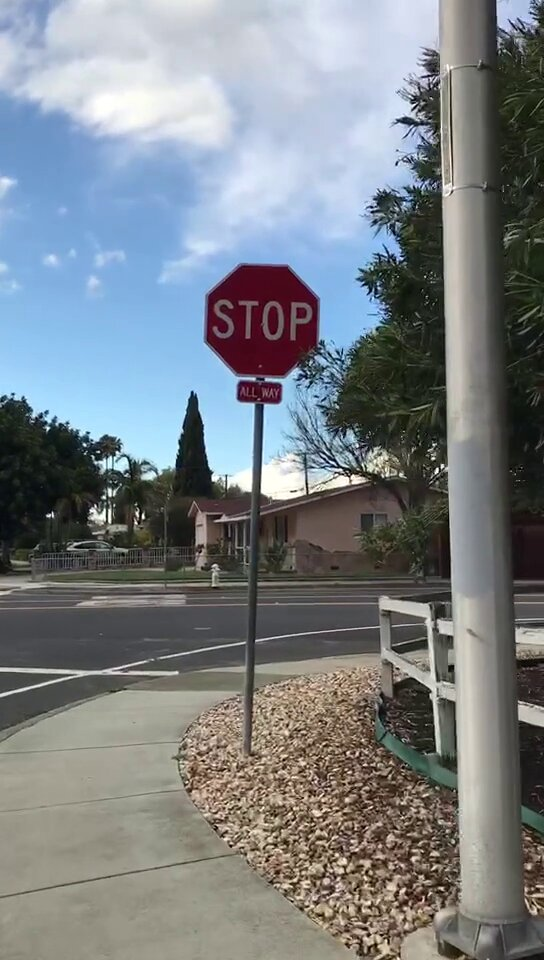stop_sign: (206, 262, 323, 379)
